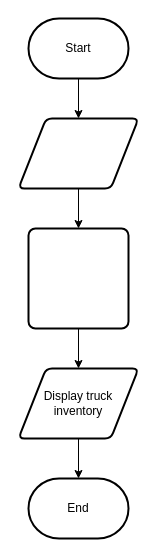
This 156x556 diagram has some shape labels left out. Each missing label, with the centre of its shape:
Enter log_length: pixel 78 153
truck_inventory = 1100 / (20 * log_length): pixel 78 278
